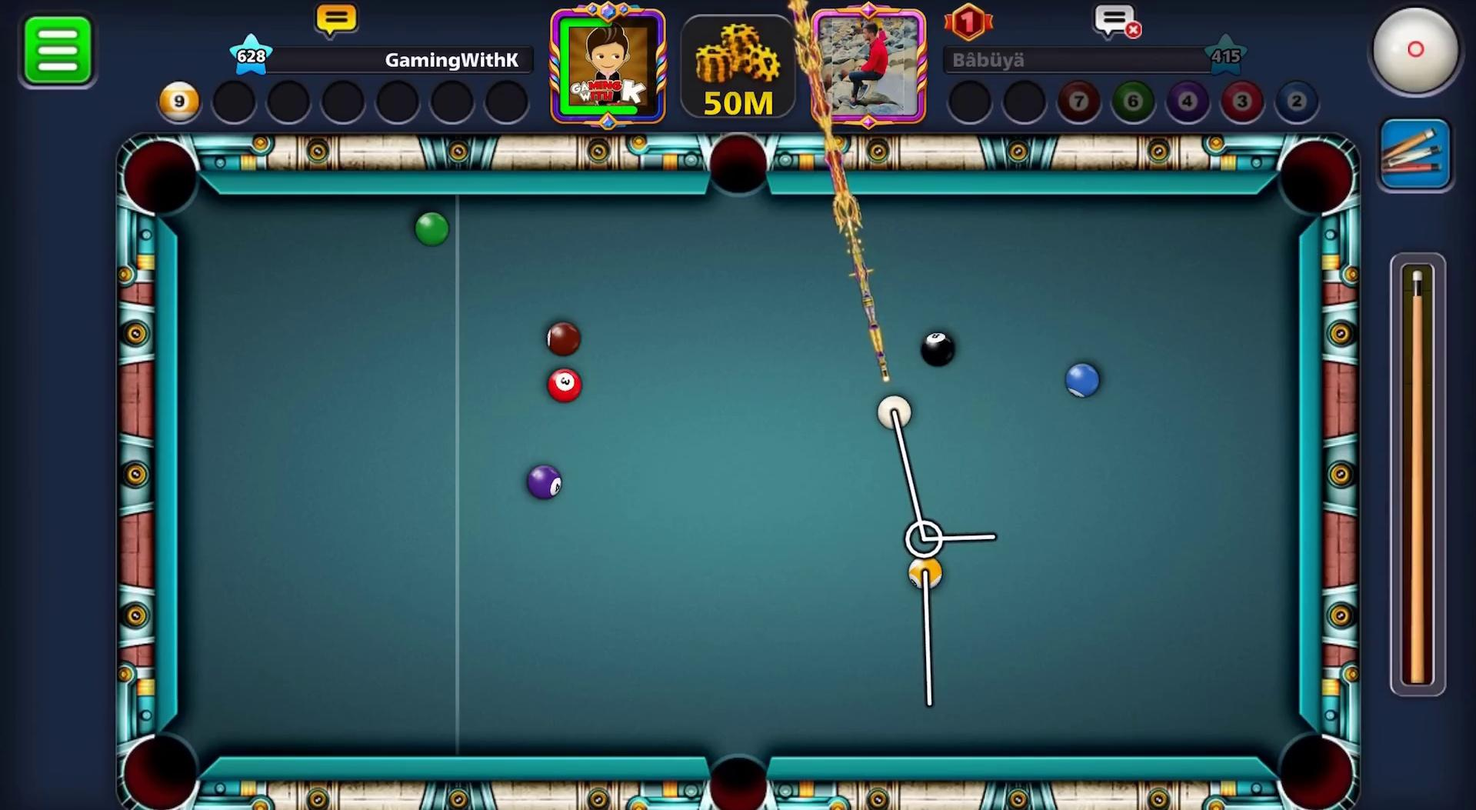Ball: (508, 452, 573, 504), (531, 315, 588, 364), (536, 357, 588, 405), (915, 328, 961, 371), (1061, 359, 1105, 402), (408, 210, 450, 249), (906, 552, 943, 595)
Force: (1389, 252, 1451, 696)
Guideline: (882, 405, 1001, 716)
Hole: (102, 709, 223, 809), (105, 124, 210, 228), (1255, 714, 1367, 809), (1269, 126, 1362, 233), (686, 724, 785, 809), (702, 118, 786, 215)
Play_Area: (179, 195, 1294, 760)
Spin: (1361, 0, 1475, 111)
White: (871, 388, 915, 435)
